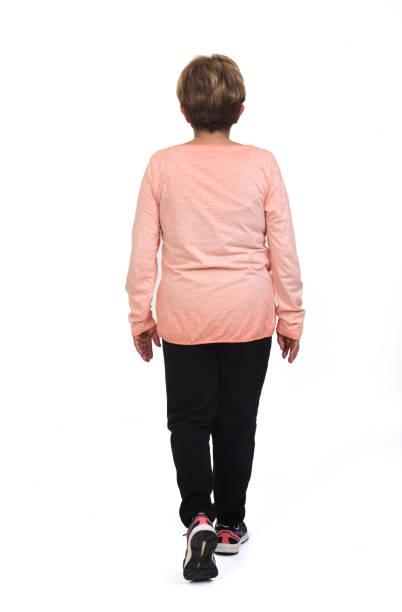Human: (126, 52, 304, 583)
